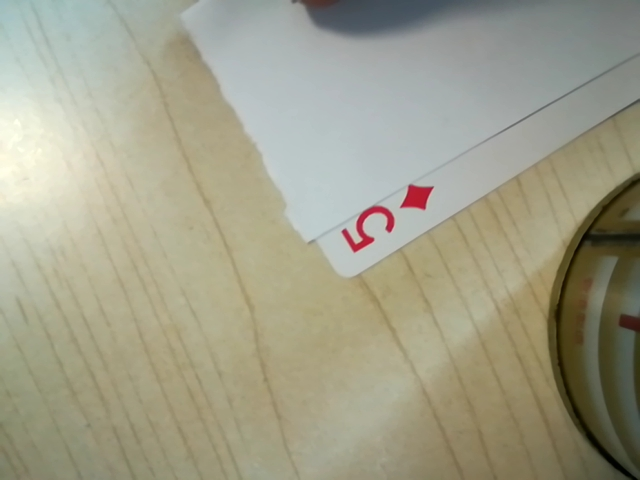fk 5: (330, 180, 436, 261)
